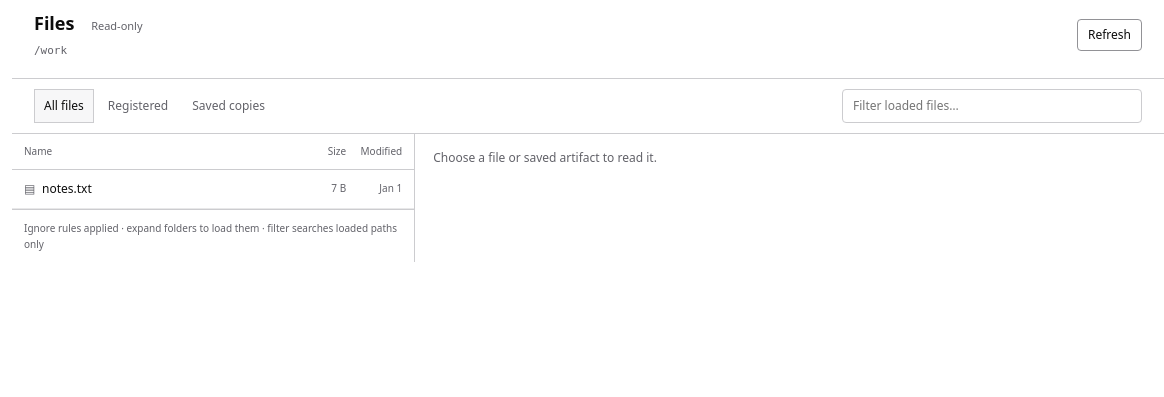
Test case: does not fetch targets that cannot be read: file
What coordinates should you click on to do the following:
click the button "▤ notes.txt 7 B Jan 1"
I would click on:
 (67, 188)
Its box is [12,170,414,208].
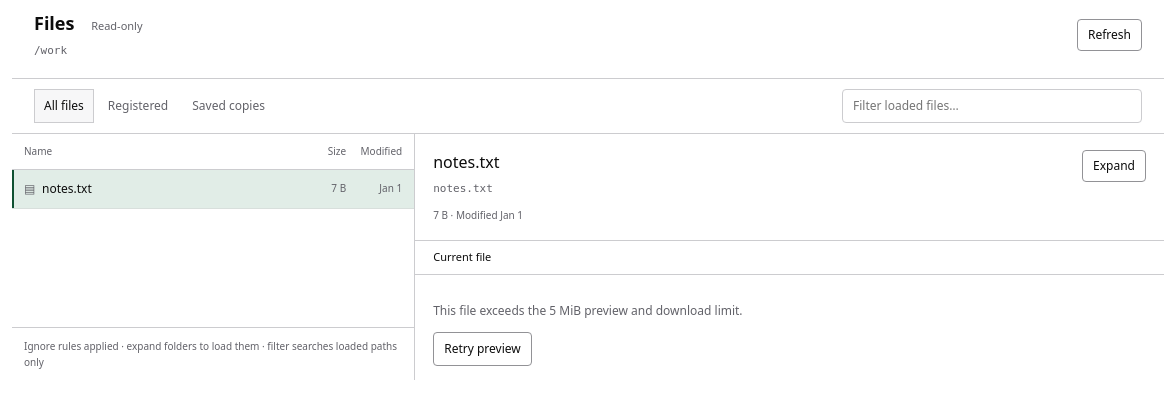
expect the text "This file exceeds the 5 MiB preview and download limit." is shown: met, box [433,302,743,319]
